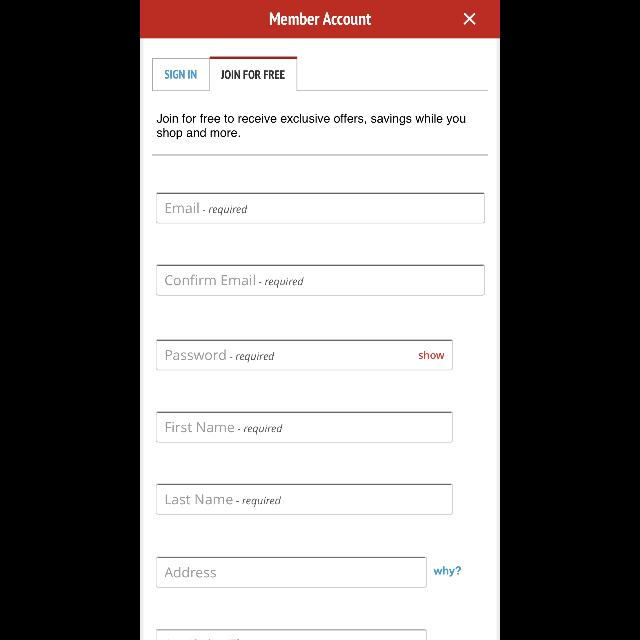icon: (464, 13, 476, 25)
input: (157, 264, 486, 296), (157, 192, 486, 224), (156, 484, 454, 514), (156, 412, 454, 442), (156, 340, 454, 370), (156, 556, 428, 588)
text: (157, 114, 465, 140), (165, 276, 303, 288), (166, 494, 282, 508), (166, 422, 282, 436), (270, 12, 370, 26), (166, 350, 274, 362), (166, 202, 248, 215), (164, 566, 216, 578), (222, 70, 284, 80), (434, 566, 461, 576), (419, 351, 445, 359)
textbutton: (153, 58, 210, 92)
